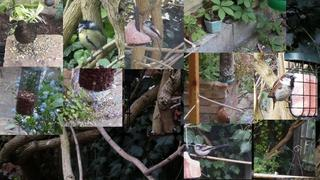blackbird: (14, 20, 43, 57)
blue tit: (76, 20, 106, 60)
long tailed tit: (142, 20, 164, 62), (193, 144, 232, 159)
sparrow: (267, 73, 297, 110)
